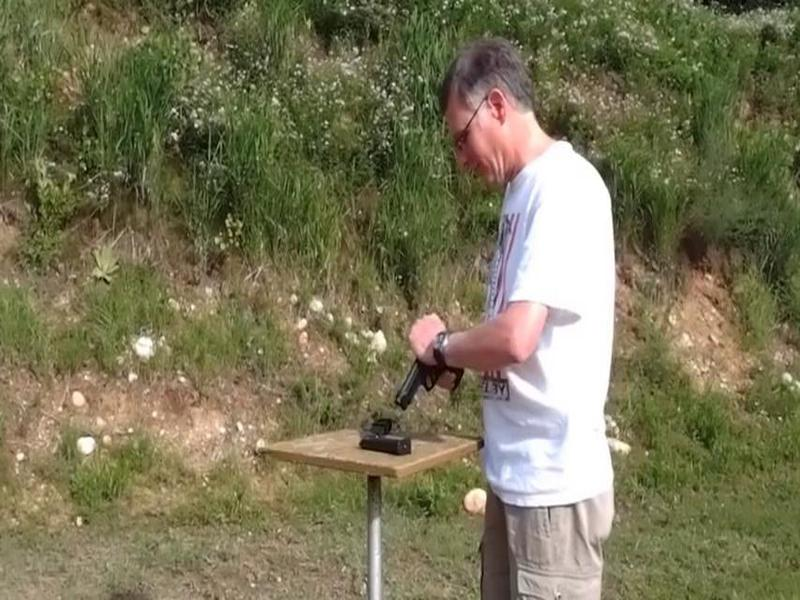Pistola: (386, 335, 467, 425)
